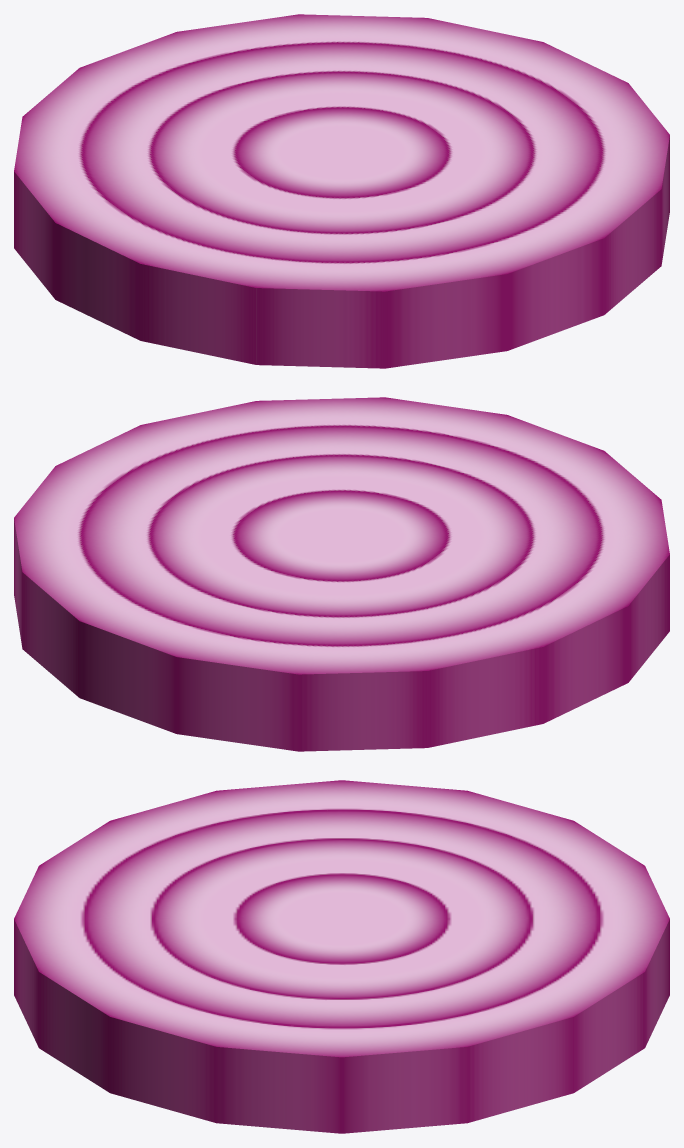
The model's file is Onion_01_Ready_01.fbx.
3 renders of one model, top to bottom at view 1: azimuth 30°, elevation 25°; view 2: azimuth 150°, elevation 25°; view 3: azimuth 270°, elevation 25°, orthographic.
Visible parts, largest first — view 1: Onion_01_Ready_01; view 2: Onion_01_Ready_01; view 3: Onion_01_Ready_01.
Part boxes in pixels (<box>): Onion_01_Ready_01: <box>14,14,669,368</box>; Onion_01_Ready_01: <box>14,397,669,751</box>; Onion_01_Ready_01: <box>14,780,669,1133</box>.
Bounding box in the file's own units: 31.43 × 4.04 × 31.43.
